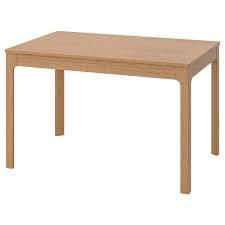desk: (5, 20, 220, 196)
